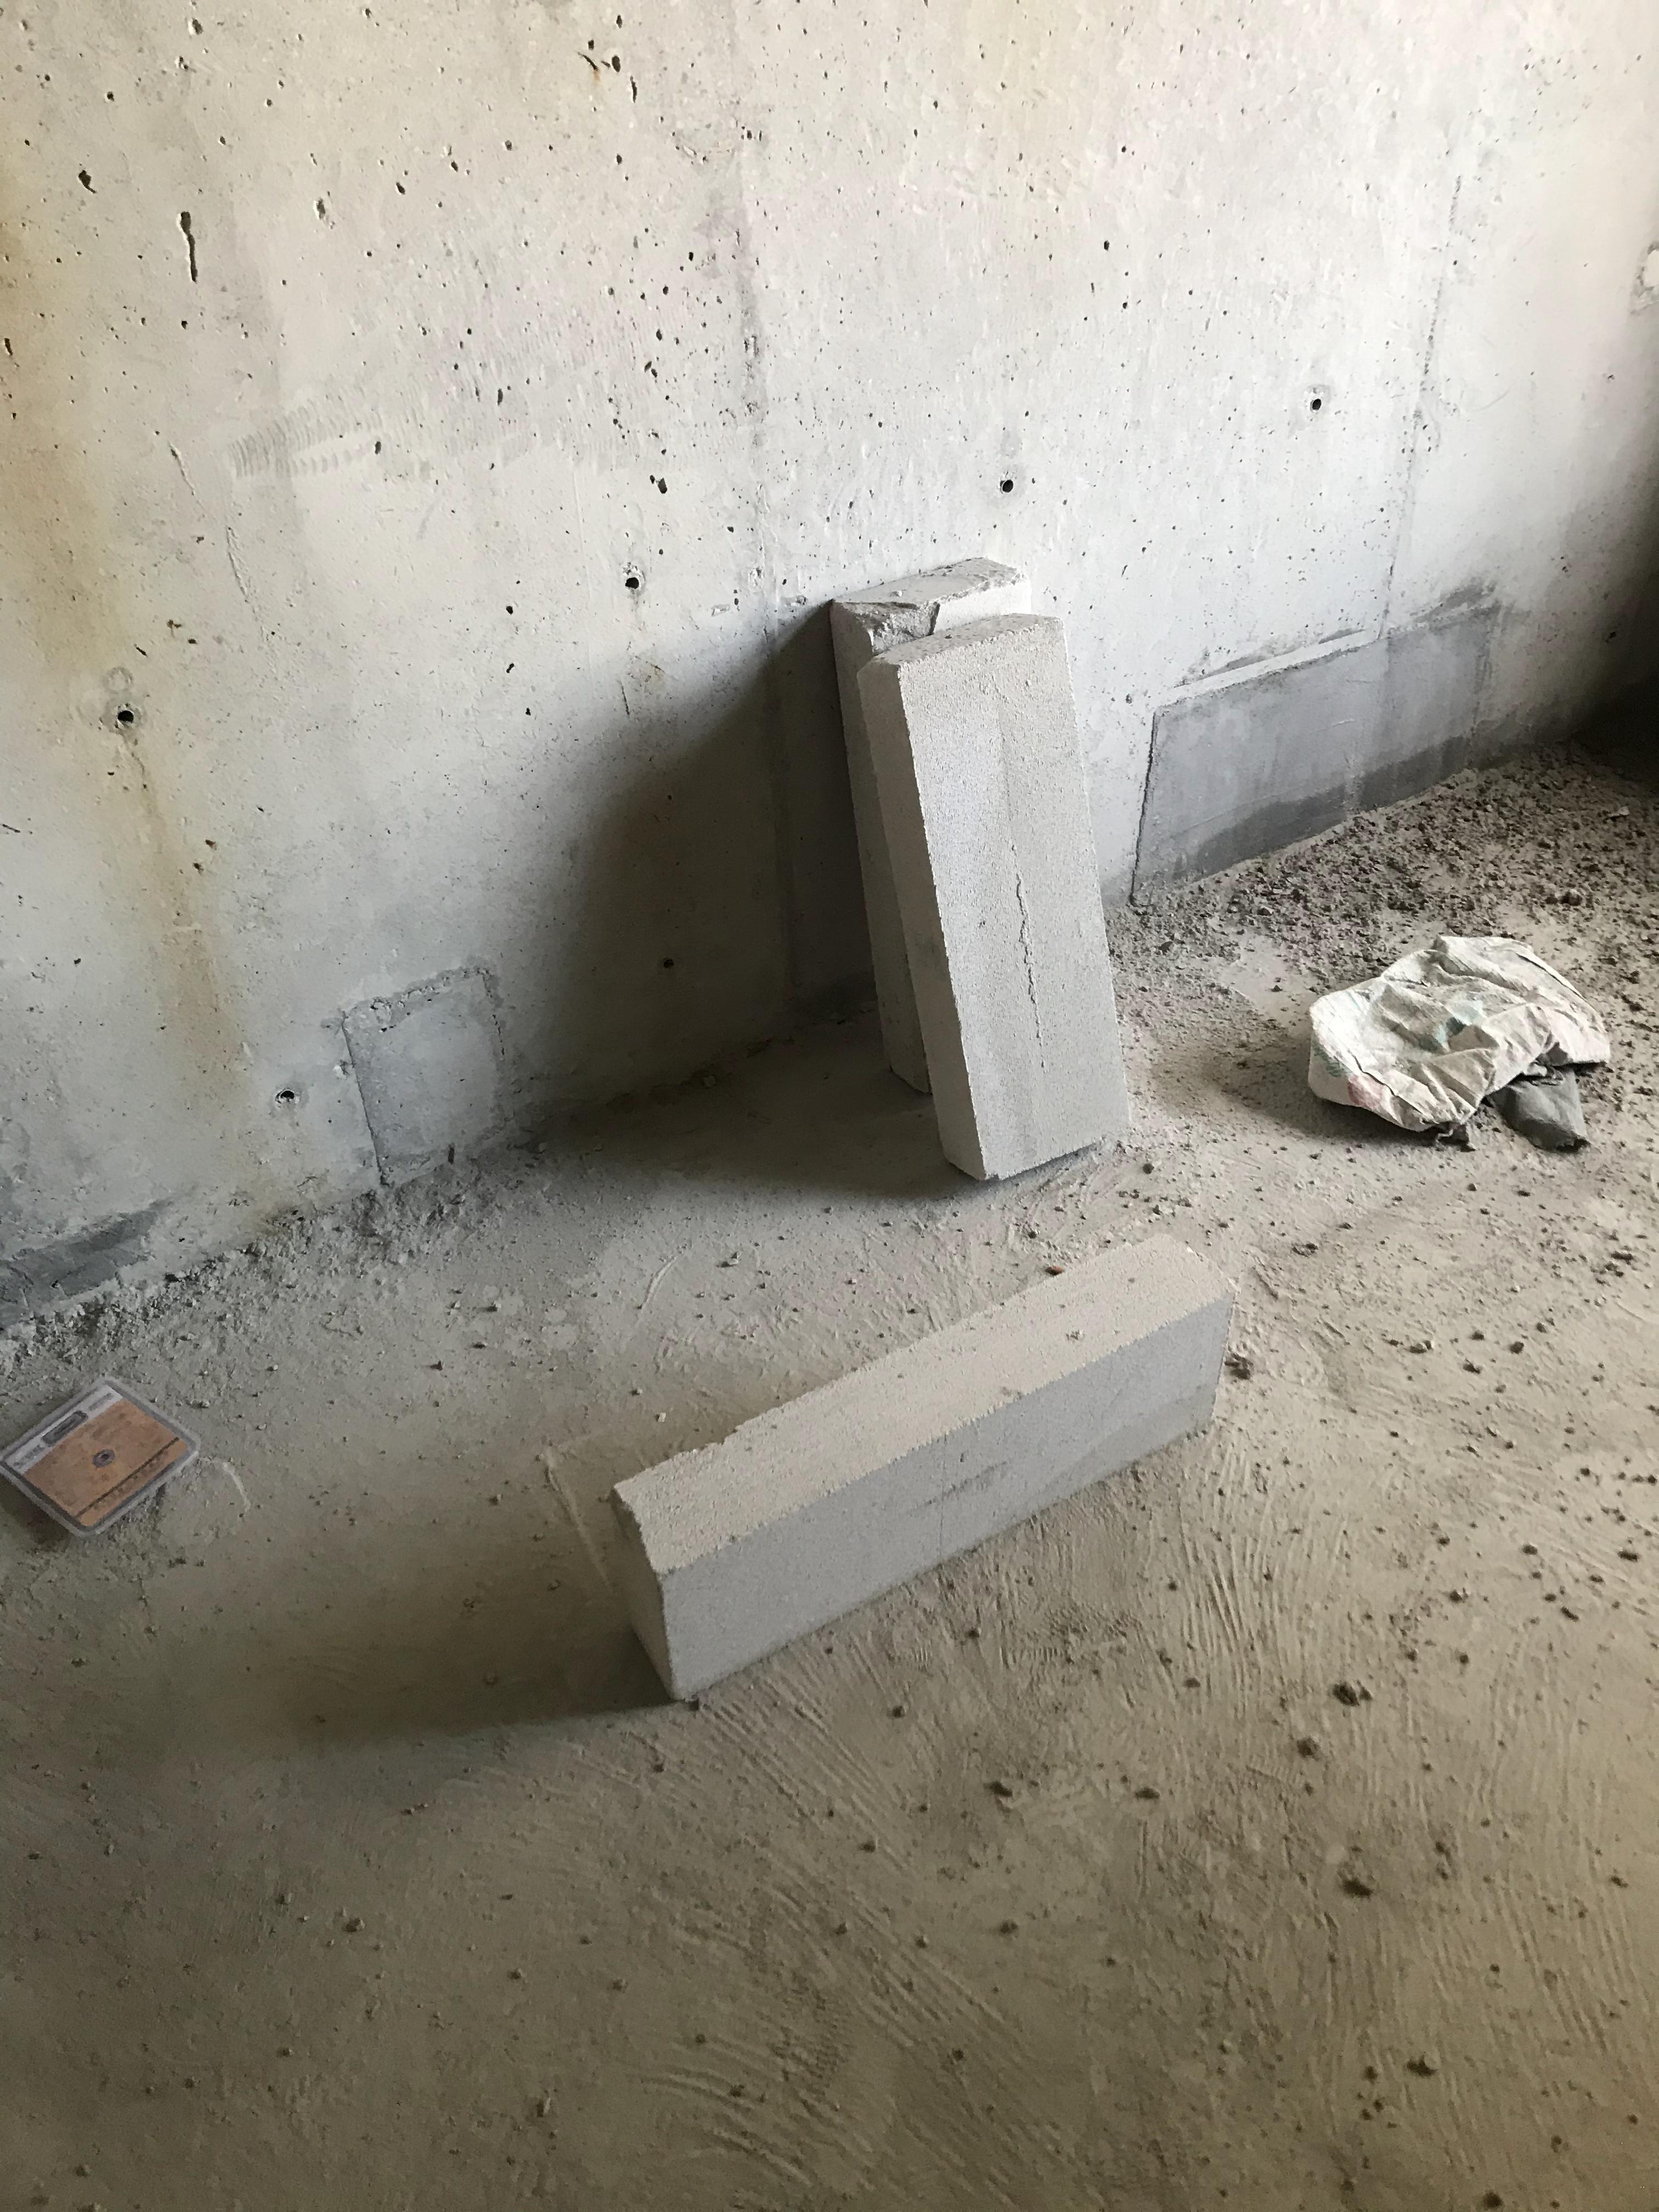brick: (558, 404, 1659, 1055)
